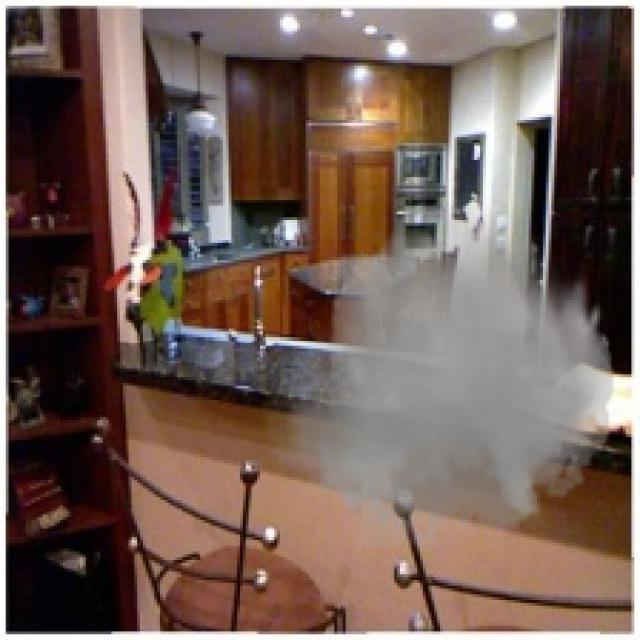Smoke: (260, 183, 623, 566)
